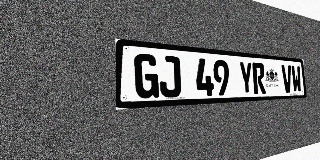4: (195, 58, 214, 96)
9: (213, 59, 230, 96)
G: (134, 53, 159, 99)
J: (159, 55, 181, 98)
R: (252, 62, 266, 94)
V: (281, 65, 293, 93)
W: (291, 65, 302, 93)
Y: (239, 61, 254, 95)
